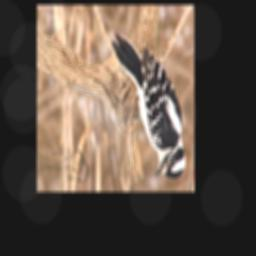Woodpecker: (110, 28, 186, 179)
